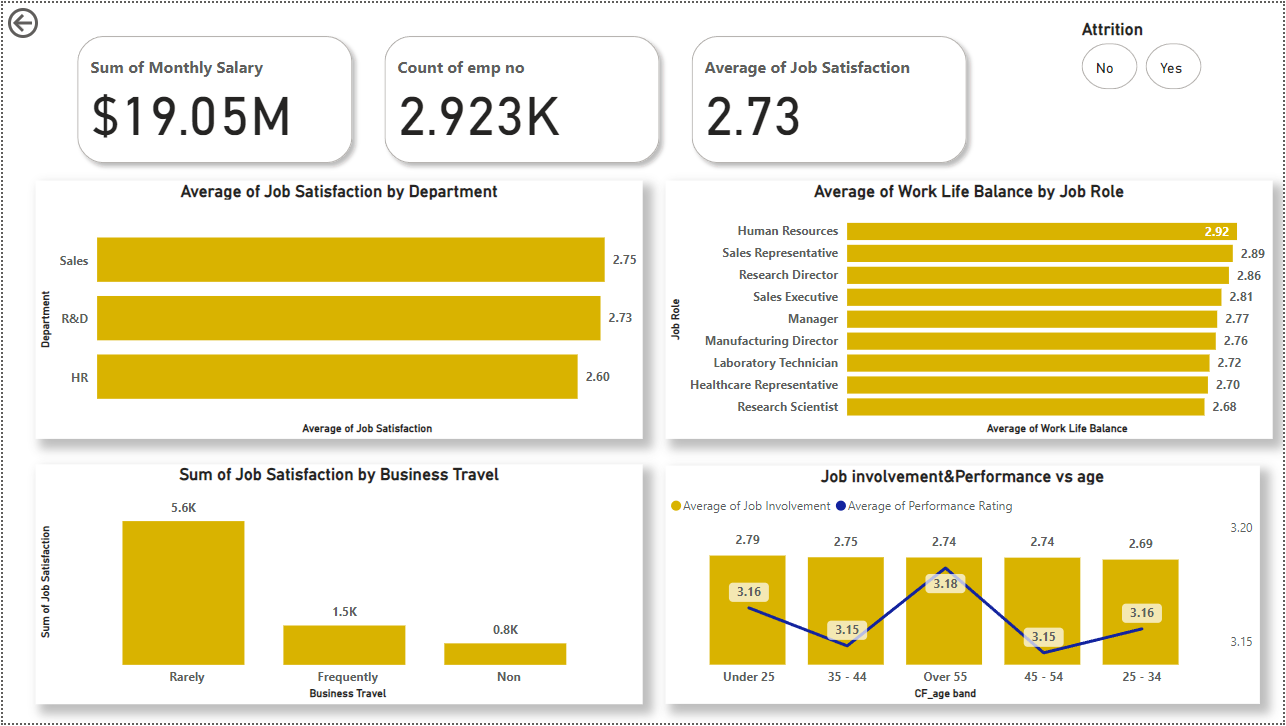

This screenshot's page, from the dashboard's own definition file:
{"tool":"powerbi","page":{"name":"Employees","canvas":[1280,720],"ordinal":1},"visuals":[{"type":"actionButton","box":[0,0,100,40],"z":0},{"type":"cardVisual","fields":{"Data":["Sum(Sheet1.Monthly Salary)","Count(Sheet1.emp no)","Avg(Sheet1.Job Satisfaction)"]},"box":[57.1,16,924.3,161.4],"z":1000},{"type":"advancedSlicerVisual","fields":{"Values":["Sheet1.Attrition"]},"box":[1074.3,15.7,195.7,75.7],"z":2000},{"type":"clusteredBarChart","fields":{"Category":["Sheet1.Department"],"Y":["Avg(Sheet1.Job Satisfaction)"]},"box":[32.9,177.1,607.1,258.6],"z":3000},{"type":"clusteredBarChart","fields":{"Category":["Sheet1.Job Role"],"Y":["Avg(Sheet1.Work Life Balance)"]},"box":[662.9,177.1,607.1,258.6],"z":4000},{"type":"lineClusteredColumnComboChart","title":"Job involvement&Performance vs age","fields":{"Category":["Sheet1.CF_age band"],"Y":["Avg(Sheet1.Job Involvement)"],"Y2":["Avg(Sheet1.Performance Rating)"]},"box":[662.9,462.9,594.3,238.6],"z":5000},{"type":"clusteredColumnChart","fields":{"Category":["Sheet1.Business Travel"],"Y":["Sum(Sheet1.Job Satisfaction)"]},"box":[32.9,461.4,607.1,240],"z":6000}]}

Visuals, with their boxes in screenshot pixels (x1, y1, x2, y2), scaled from the page's 1280x720 canvas onto the 1286x726 screenshot:
actionButton: 0/0/100/40
cardVisual - Sum(Sheet1.Monthly Salary) x Count(Sheet1.emp no): 57/16/986/179
advancedSlicerVisual - Sheet1.Attrition: 1079/16/1276/92
clusteredBarChart - Sheet1.Department x Avg(Sheet1.Job Satisfaction): 33/179/643/439
clusteredBarChart - Sheet1.Job Role x Avg(Sheet1.Work Life Balance): 666/179/1276/439
"Job involvement&Performance vs age" lineClusteredColumnComboChart: 666/467/1263/707
clusteredColumnChart - Sheet1.Business Travel x Sum(Sheet1.Job Satisfaction): 33/465/643/707
